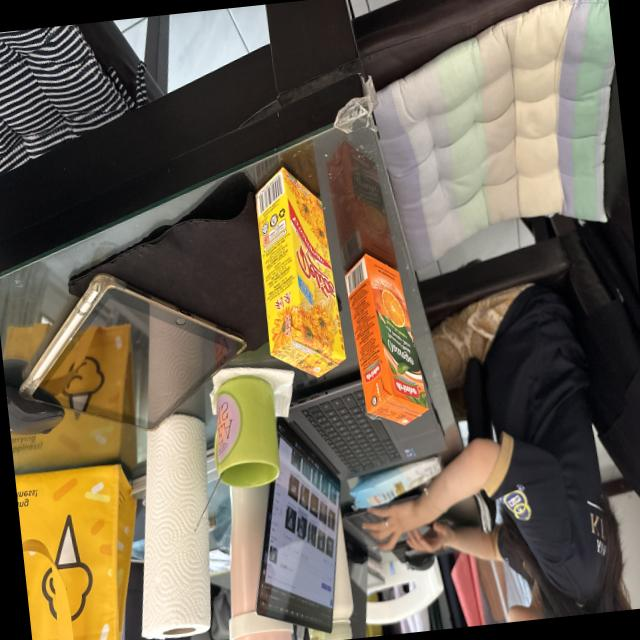drink_carton: (246, 152, 352, 390), (336, 238, 436, 436)
